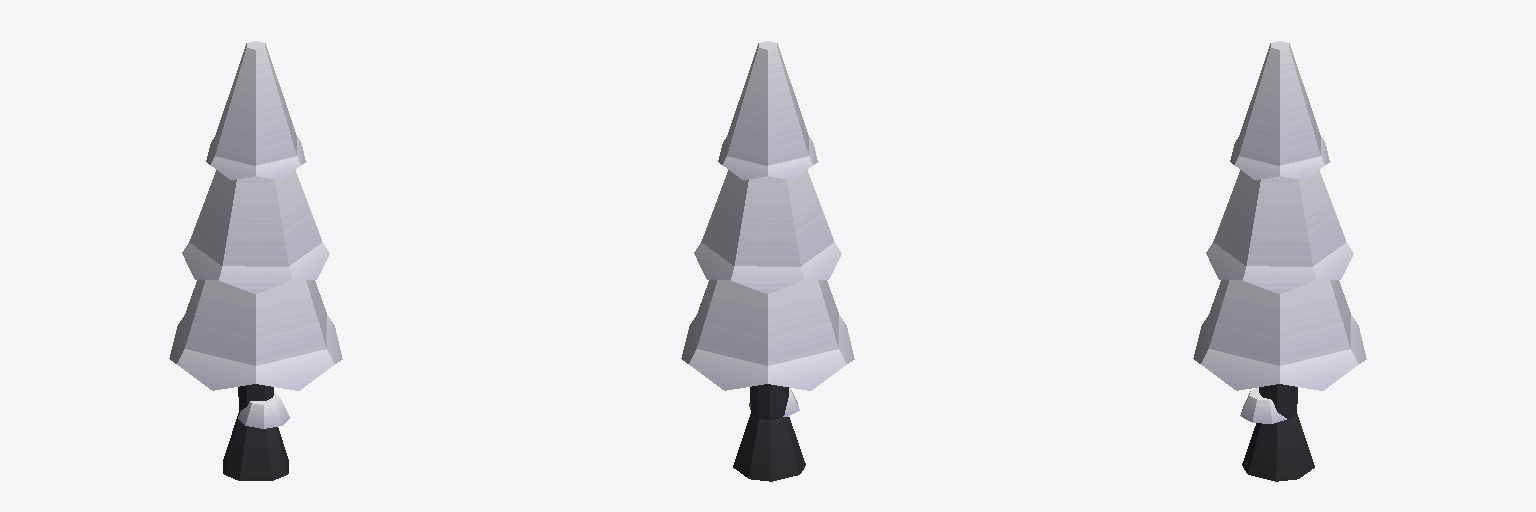
3 renders of one model, left to right at view 1: azimuth 30°, elevation 25°; view 2: azimuth 150°, elevation 25°; view 3: azimuth 270°, elevation 25°, orthographic.
Visible parts, largest first — view 1: tree.051; view 2: tree.051; view 3: tree.051.
Part boxes in pixels (left/top/right/bottom): tree.051: left=169, top=41, right=342, bottom=480; tree.051: left=681, top=41, right=854, bottom=481; tree.051: left=1193, top=41, right=1366, bottom=481.
Size of the model in its own units: 1.36 by 3.47 by 1.3.
Materials: 1 (1 with a texture image).